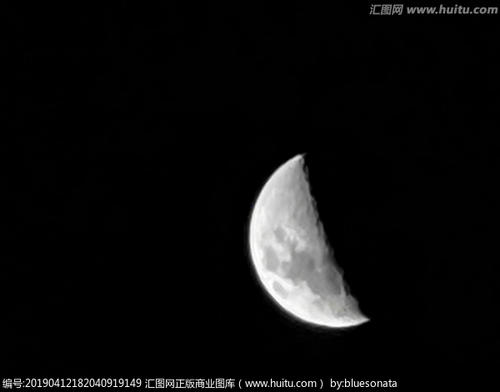moon: (249, 151, 371, 327)
